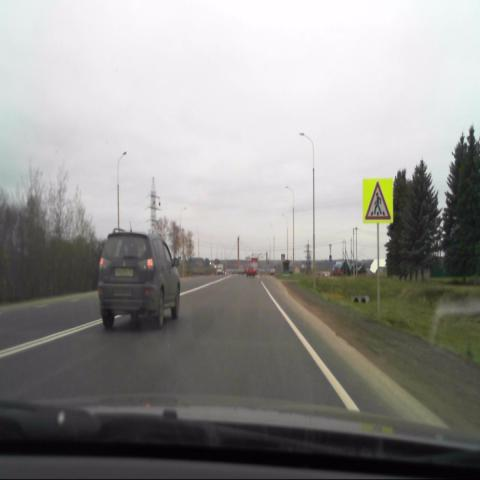1_22: (362, 177, 393, 223)
